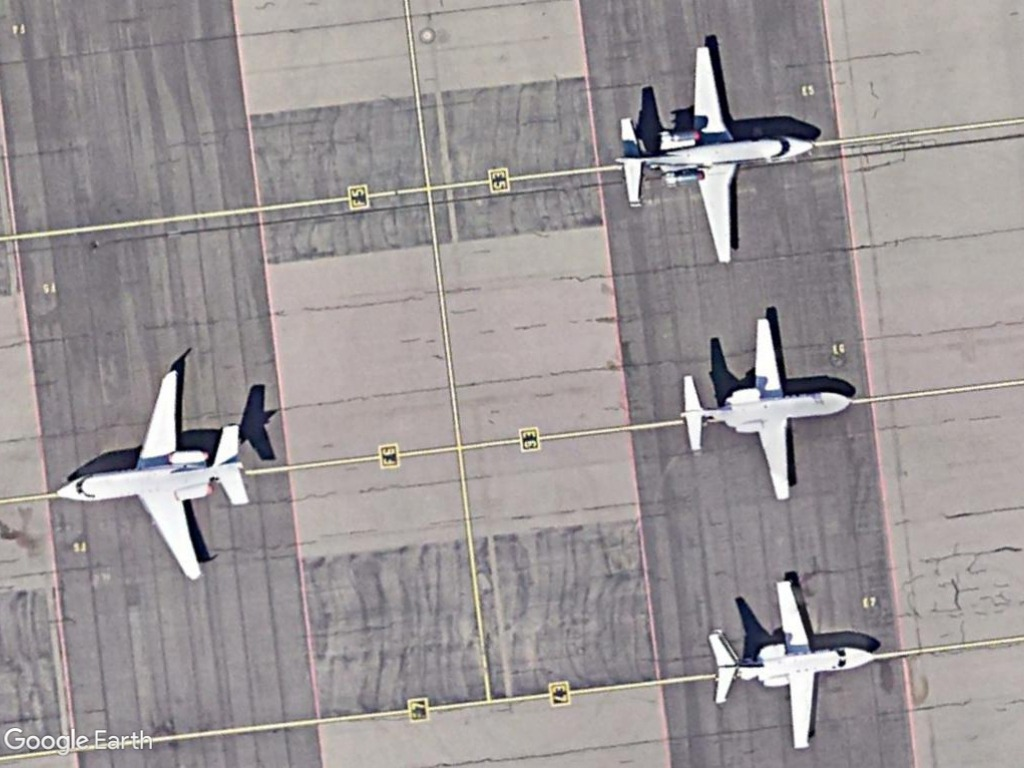chartered: (613, 38, 818, 264), (52, 365, 253, 584), (678, 316, 857, 504), (704, 572, 884, 757)
